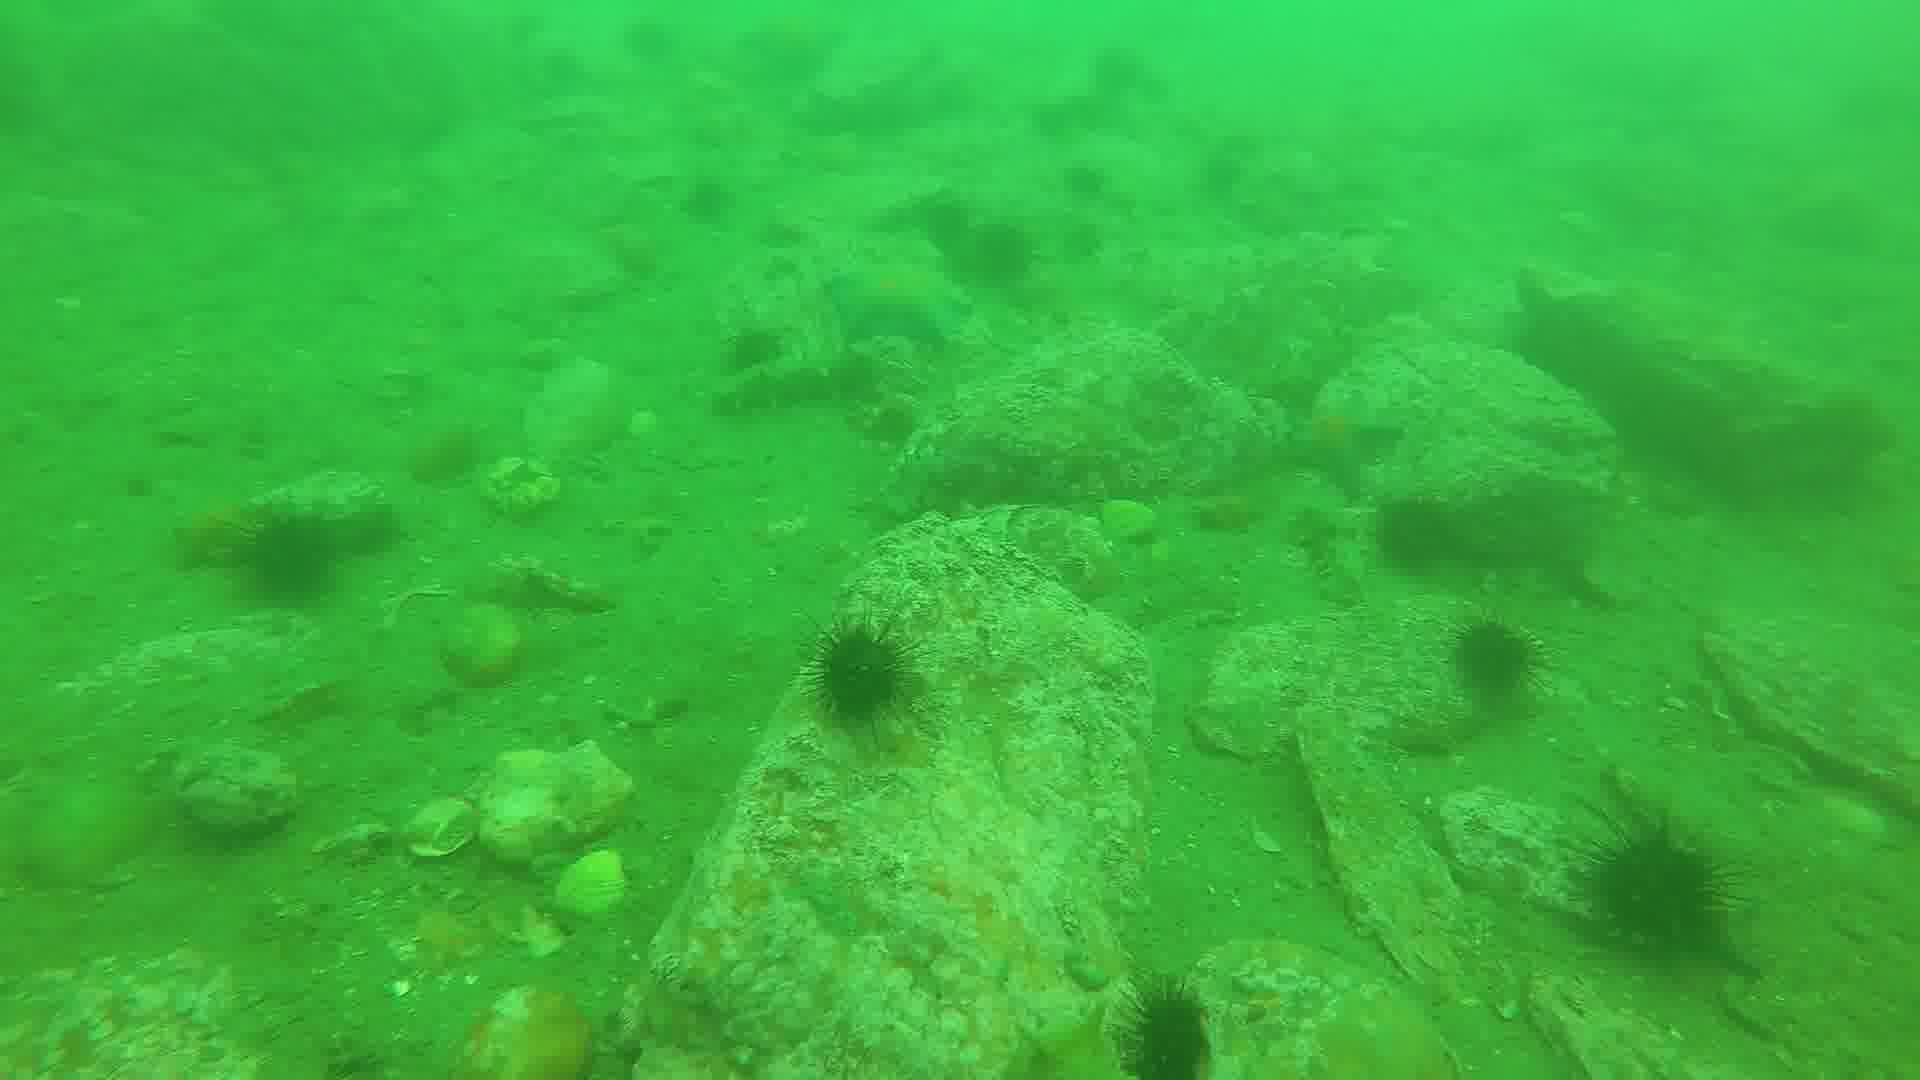echinus: (1592, 814, 1720, 948), (1116, 982, 1222, 1080), (807, 620, 905, 723), (1451, 615, 1545, 702), (247, 516, 335, 608), (1385, 496, 1453, 574), (982, 225, 1033, 280), (919, 204, 971, 248)
holothurian: (705, 347, 895, 425), (1296, 492, 1374, 608)
starfish: (829, 243, 977, 353)
